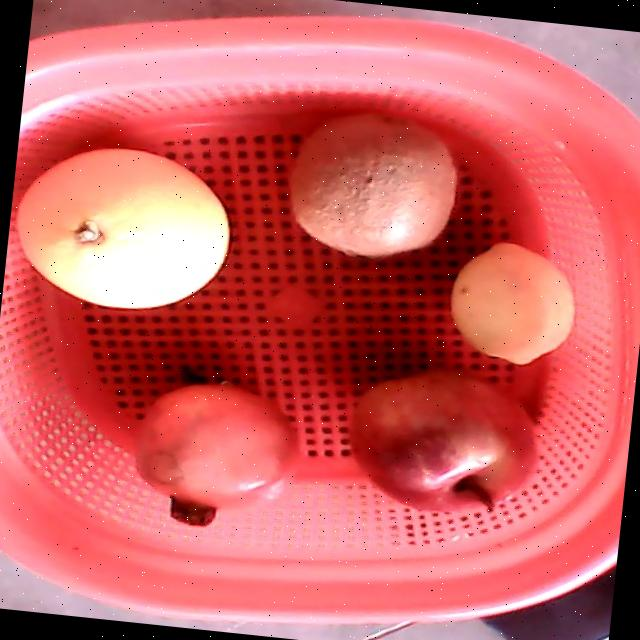apple: (349, 368, 537, 514)
kiwi: (289, 109, 456, 256)
lemon: (448, 241, 571, 365)
orange: (14, 149, 230, 308)
pomegranate: (131, 384, 298, 526)
